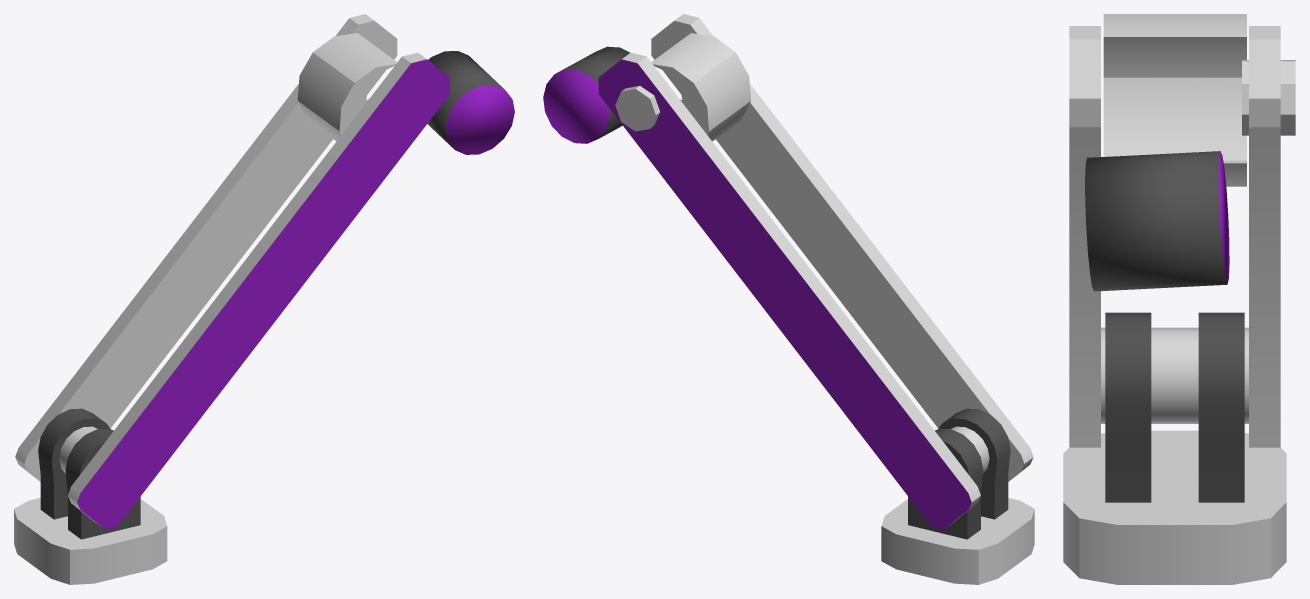
Rendered from Brazo_01_Inferior.obj.
3 views of the same model, side by side, from view 1: azimuth 30°, elevation 25°; view 2: azimuth 150°, elevation 25°; view 3: azimuth 270°, elevation 25° (orthographic). The views are drawn at different scales.
Visible parts, largest first — view 1: Brazo_01_Inferior; view 2: Brazo_01_Inferior; view 3: Brazo_01_Inferior.
Part boxes in pixels (left/top/right/bottom): Brazo_01_Inferior: left=14, top=14, right=514, bottom=584; Brazo_01_Inferior: left=543, top=14, right=1034, bottom=584; Brazo_01_Inferior: left=1063, top=14, right=1295, bottom=584.
Size of the model in its own units: 4.04 by 3.72 by 1.04.
